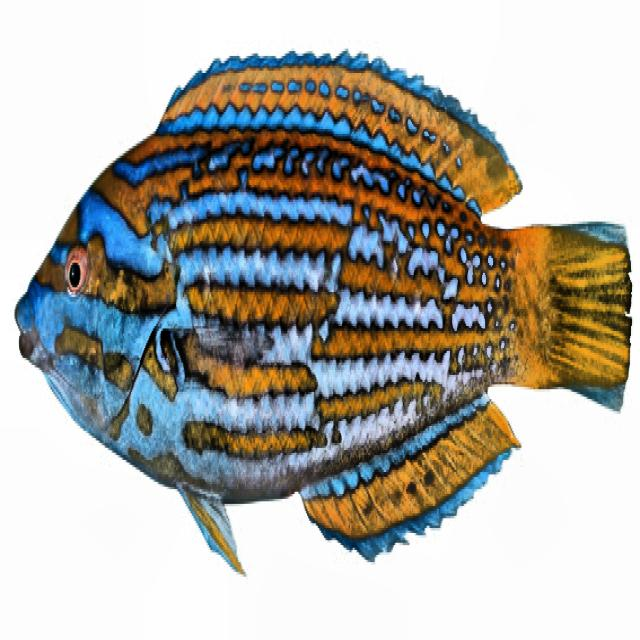fish: (15, 45, 632, 588)
